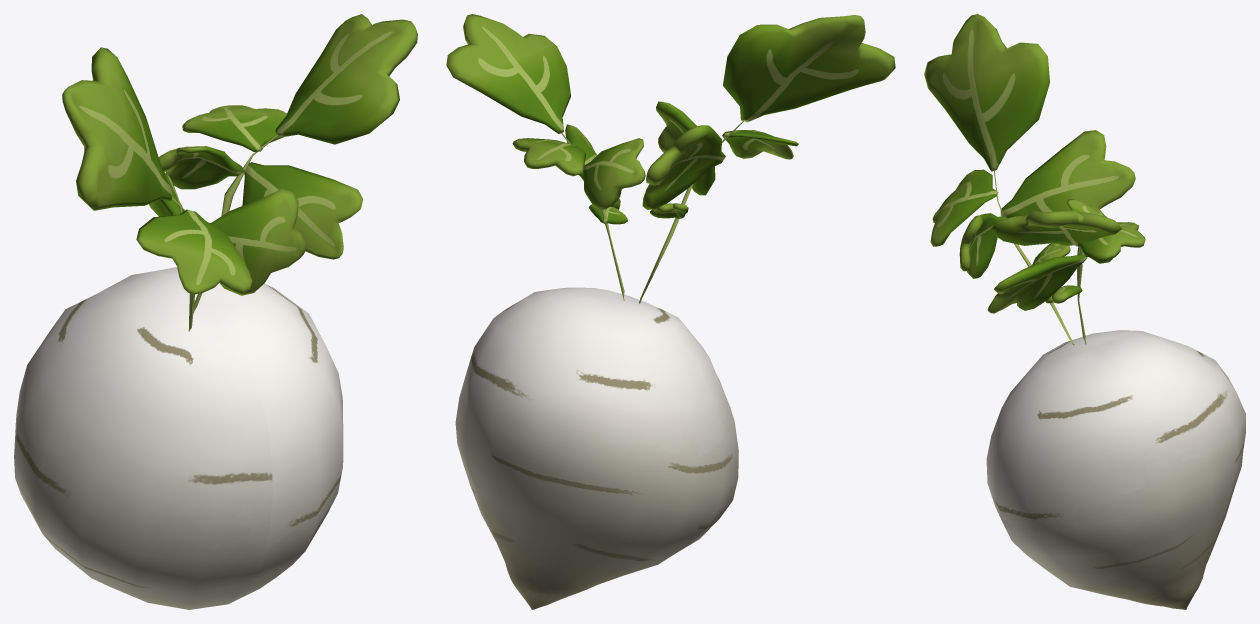
The model's file is Veg_turnip_S.fbx.
The picture shows the model from 3 angles, left to right: view 1: azimuth 30°, elevation 25°; view 2: azimuth 150°, elevation 25°; view 3: azimuth 270°, elevation 25°; orthographic projection. The views are drawn at different scales.
Parts seen in each view (by area): view 1: Cylinder.009; view 2: Cylinder.009; view 3: Cylinder.009.
Part boxes in pixels (<box>): Cylinder.009: <box>14,14,417,609</box>; Cylinder.009: <box>446,14,895,609</box>; Cylinder.009: <box>924,14,1245,609</box>.
Size of the model in its own units: 16.23 by 18.91 by 28.11.
